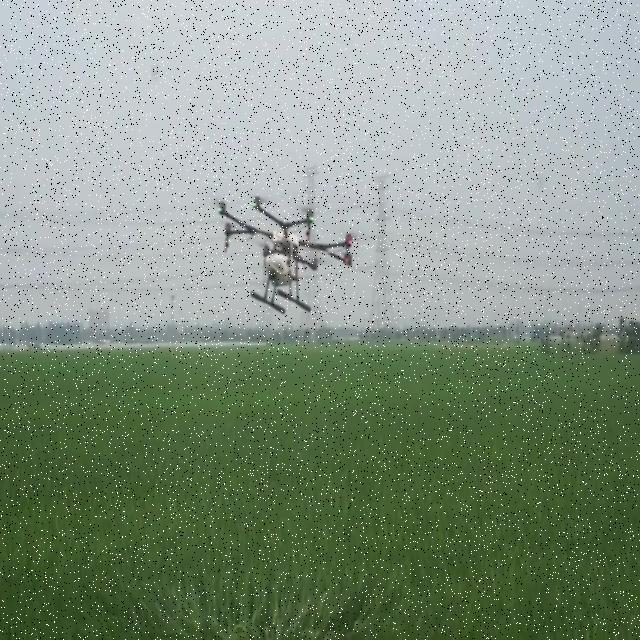UAV: (217, 195, 355, 316)
